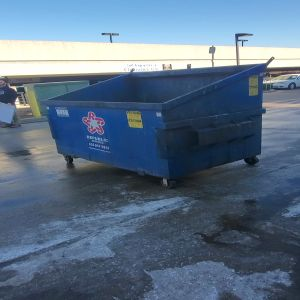Dumpster: (46, 66, 275, 191)
Person: (1, 76, 18, 103)
